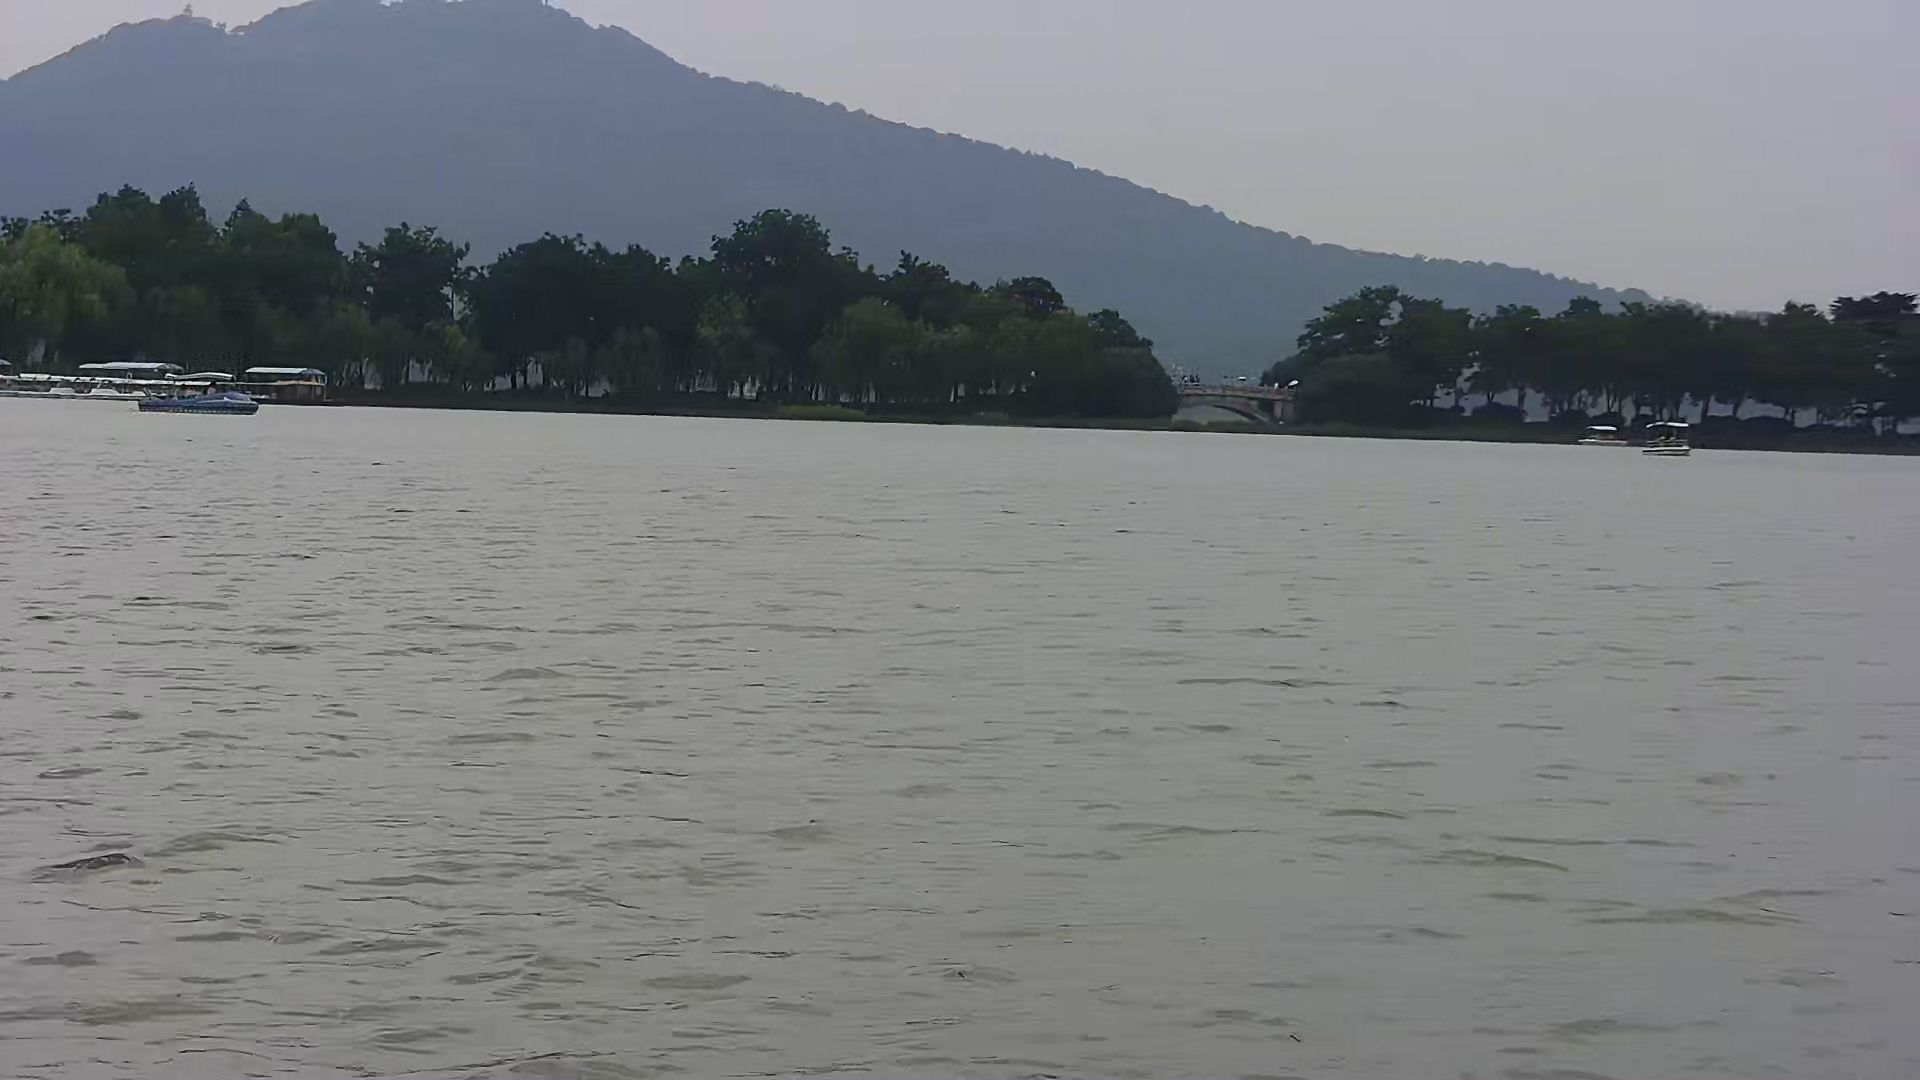boat: (128, 371, 268, 417)
